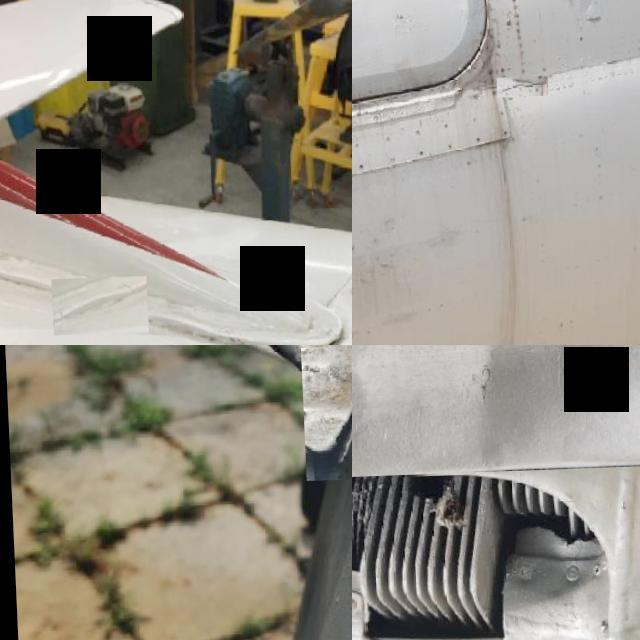Crack: (156, 297, 352, 345), (299, 347, 352, 483), (48, 278, 146, 336), (494, 79, 546, 100)
Dent: (352, 345, 640, 481)
